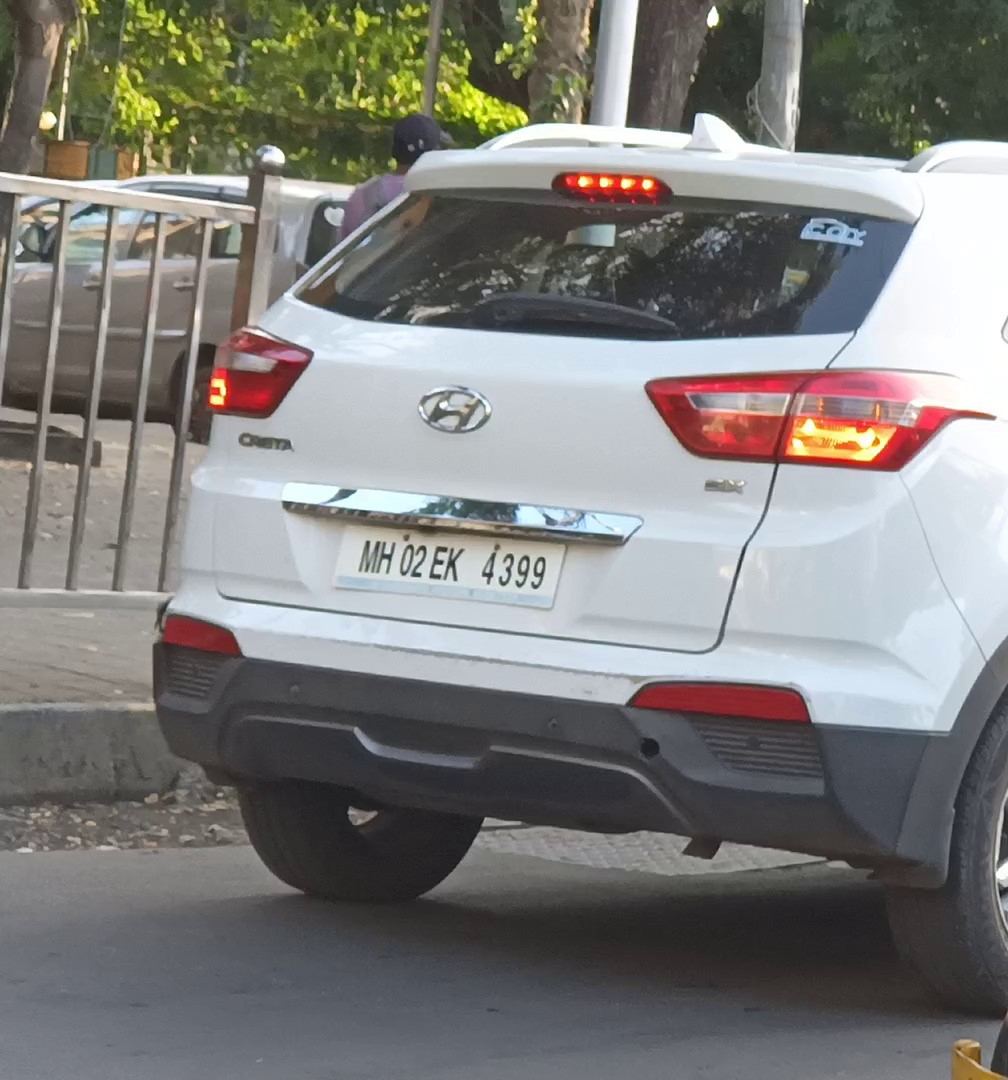MH02EK4399: (331, 516, 568, 611)
